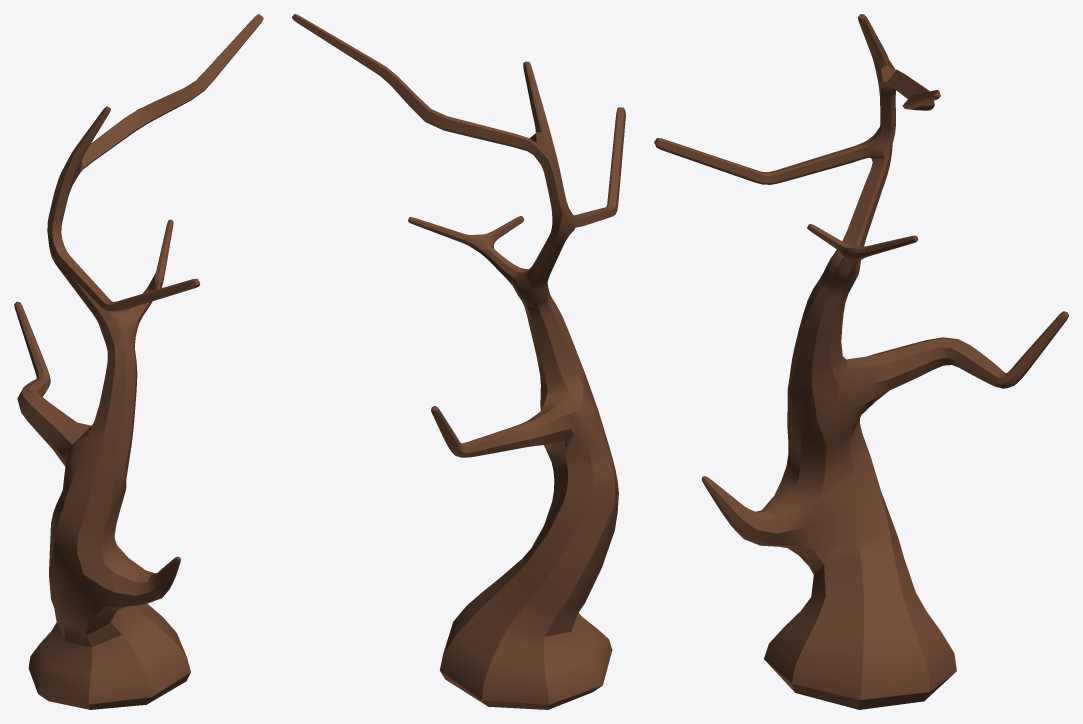
File: treedead.fbx
3 views of the same model, side by side, from view 1: azimuth 30°, elevation 25°; view 2: azimuth 150°, elevation 25°; view 3: azimuth 270°, elevation 25° (orthographic). The views are drawn at different scales.
Parts seen in each view (by area): view 1: Cube.001; view 2: Cube.001; view 3: Cube.001.
Part boxes in pixels (x1,y1,x2,y2): Cube.001: (14,14,263,709); Cube.001: (292,14,625,709); Cube.001: (654,14,1068,709).
Size of the model in its own units: 4.31 by 9.73 by 5.22.
